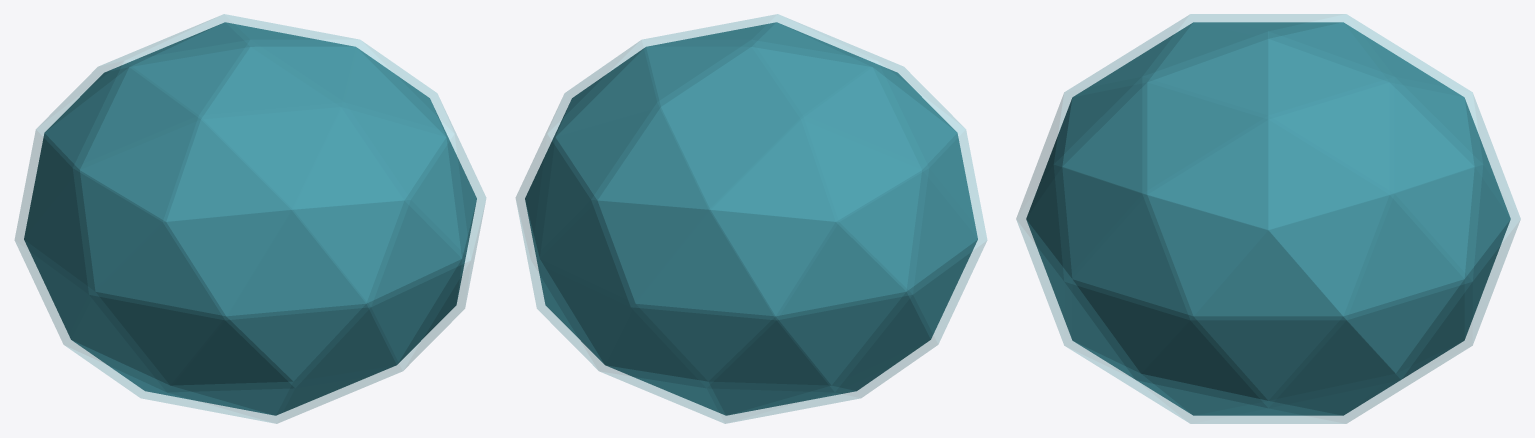
Rendered from item_gem10.glb.
3 views of the same model, side by side, from view 1: azimuth 30°, elevation 25°; view 2: azimuth 150°, elevation 25°; view 3: azimuth 270°, elevation 25° (orthographic). The views are drawn at different scales.
Visible parts, largest first — view 1: jewellery_gem10_glass, jewellery_gem10; view 2: jewellery_gem10_glass, jewellery_gem10; view 3: jewellery_gem10_glass, jewellery_gem10.
Part boxes in pixels (box(x1,y1,x2,y2)): jewellery_gem10_glass: box(15, 14, 485, 423); jewellery_gem10: box(24, 22, 476, 415); jewellery_gem10_glass: box(516, 14, 986, 423); jewellery_gem10: box(525, 22, 977, 415); jewellery_gem10_glass: box(1016, 14, 1520, 423); jewellery_gem10: box(1026, 22, 1510, 415).
Bounding box in the file's own units: 0.9511 × 0.82 × 1.
